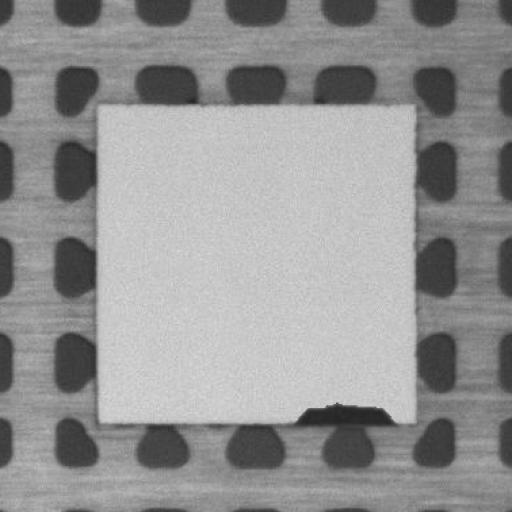DIE_BROKEN: (288, 400, 397, 427)
